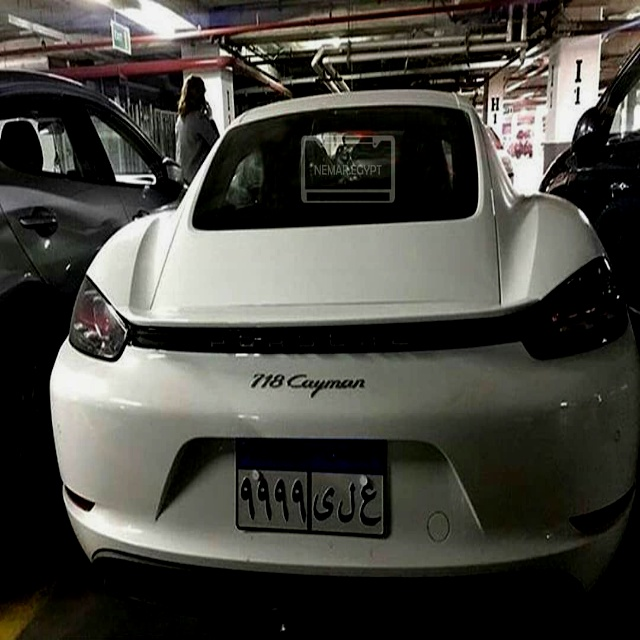License Plate: (231, 433, 389, 543)
